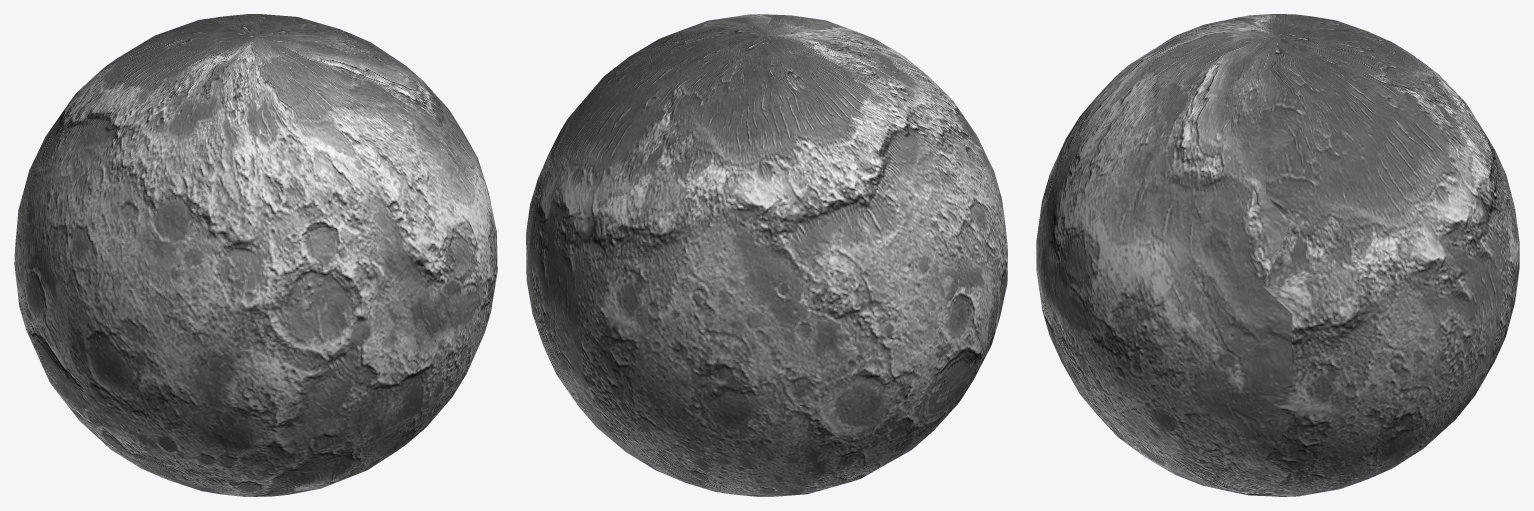
File: moon-transformed.glb
The picture shows the model from 3 angles, left to right: view 1: azimuth 30°, elevation 25°; view 2: azimuth 150°, elevation 25°; view 3: azimuth 270°, elevation 25°; orthographic projection.
Parts seen in each view (by area): view 1: Sphere.001; view 2: Sphere.001; view 3: Sphere.001.
Part boxes in pixels (left/top/right/bottom): Sphere.001: left=14, top=14, right=497, bottom=496; Sphere.001: left=526, top=14, right=1007, bottom=496; Sphere.001: left=1036, top=14, right=1519, bottom=496.
Size of the model in its own units: 2 by 2 by 2.
1 material, 1 textured.
